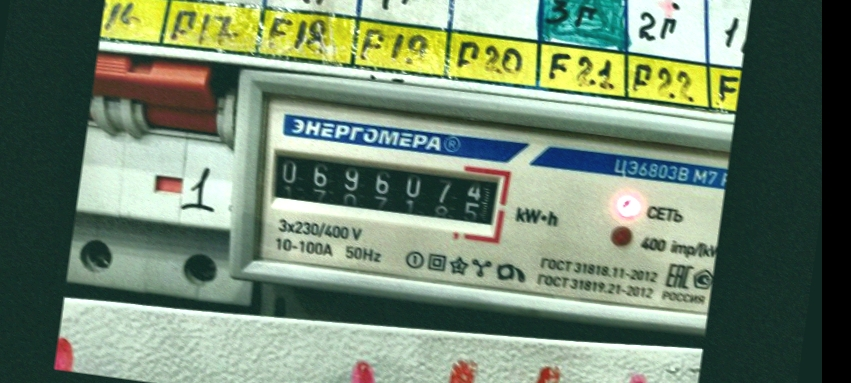0: (279, 156, 301, 184), (404, 171, 424, 199)
4: (467, 178, 483, 201)
5: (464, 200, 480, 221)
6: (310, 160, 331, 187), (374, 166, 393, 195)
7: (435, 176, 454, 204)
9: (342, 164, 362, 192)
screen: (261, 135, 515, 245)
